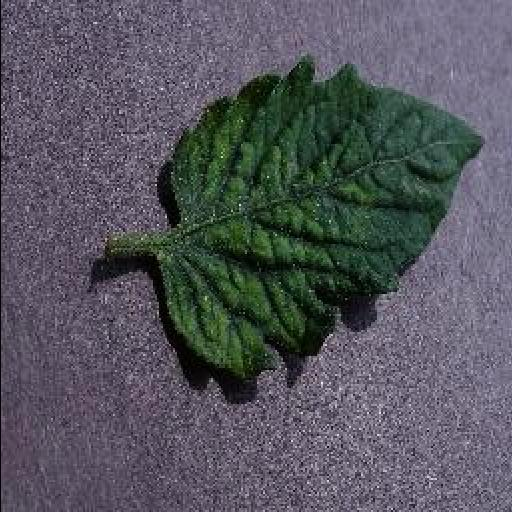disease_tomato: (156, 56, 488, 386)
